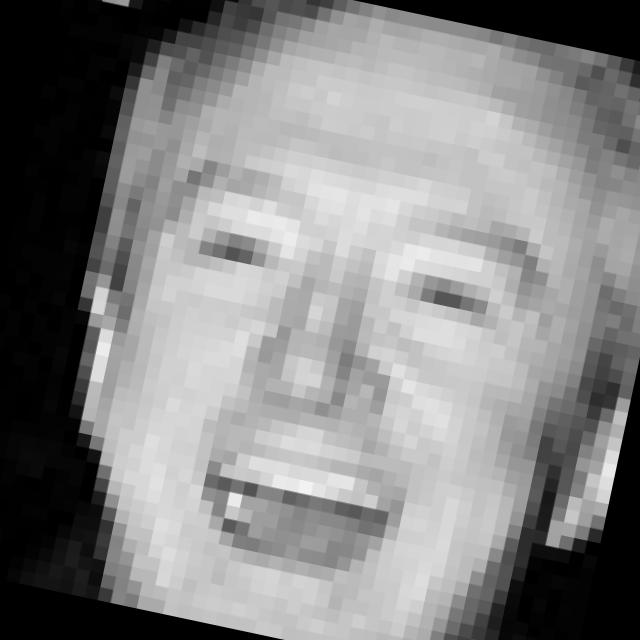happy: (82, 142, 569, 640)
